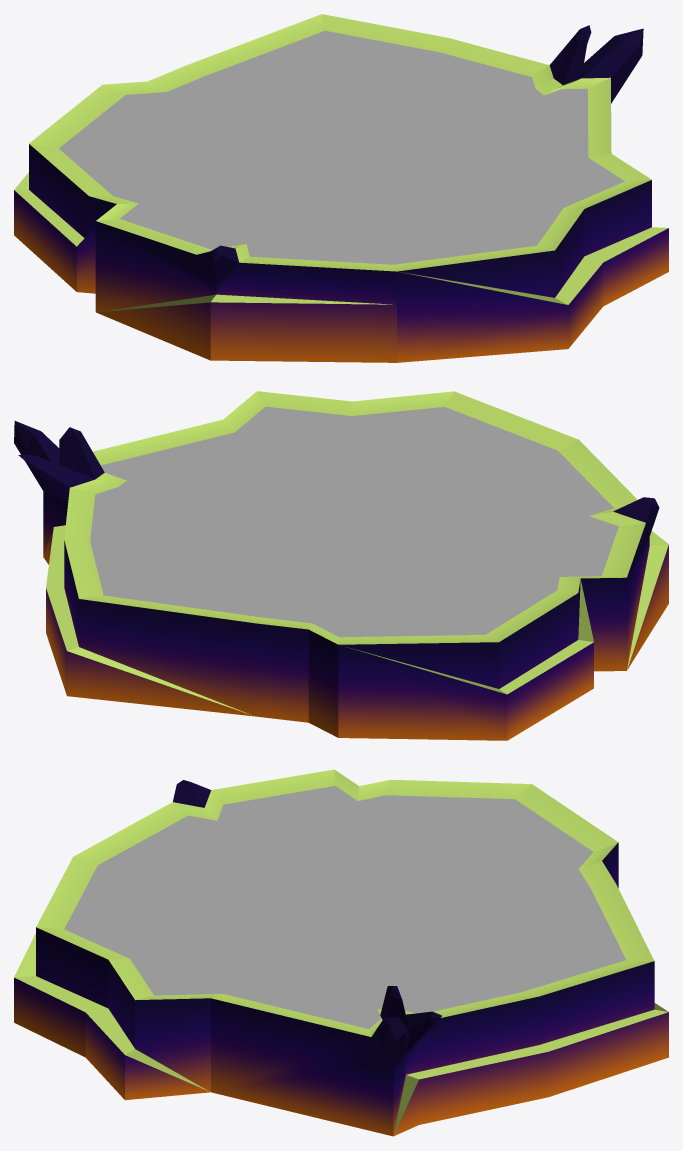
The model's file is MOD_Platform_Laag.fbx.
3 renders of one model, top to bottom at view 1: azimuth 30°, elevation 25°; view 2: azimuth 150°, elevation 25°; view 3: azimuth 270°, elevation 25°, orthographic. The views are drawn at different scales.
Visible parts, largest first — view 1: MOD_Platform_Hoog; view 2: MOD_Platform_Hoog; view 3: MOD_Platform_Hoog.
Part boxes in pixels (bbox=[...]): MOD_Platform_Hoog: bbox=[14, 14, 668, 362]; MOD_Platform_Hoog: bbox=[14, 391, 668, 740]; MOD_Platform_Hoog: bbox=[14, 769, 668, 1136].
Bounding box in the file's own units: 7.34 × 1.63 × 7.05.
